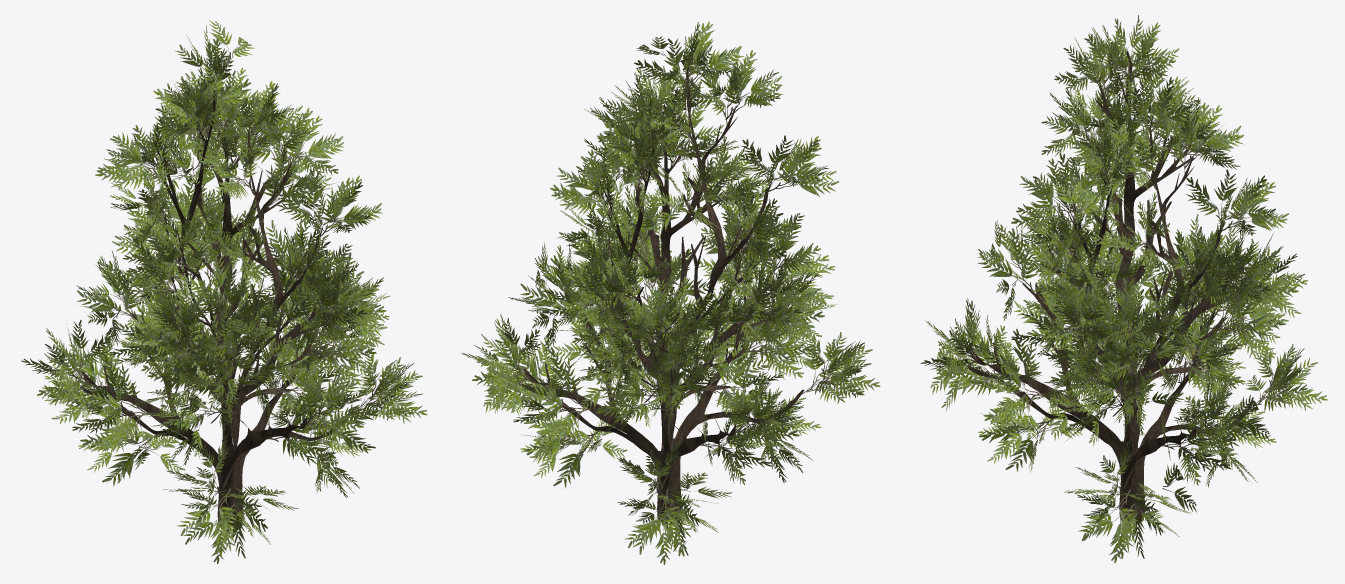
The model's file is tree_lod1.glb.
The picture shows the model from 3 angles, left to right: view 1: azimuth 30°, elevation 25°; view 2: azimuth 150°, elevation 25°; view 3: azimuth 270°, elevation 25°; orthographic projection.
Visible parts, largest first — view 1: Object_5402.001, Object_5400.001; view 2: Object_5402.001, Object_5400.001; view 3: Object_5402.001, Object_5400.001.
Boxes of the visible parts, left/top/right/bottom form: Object_5402.001: left=21, top=20, right=427, bottom=563; Object_5400.001: left=80, top=69, right=348, bottom=534; Object_5402.001: left=461, top=21, right=880, bottom=564; Object_5400.001: left=522, top=59, right=804, bottom=528; Object_5402.001: left=920, top=15, right=1327, bottom=563; Object_5400.001: left=968, top=51, right=1252, bottom=524.
Bounding box in the file's own units: 14.83 × 20.42 × 15.6.
2 materials, 2 textured.
